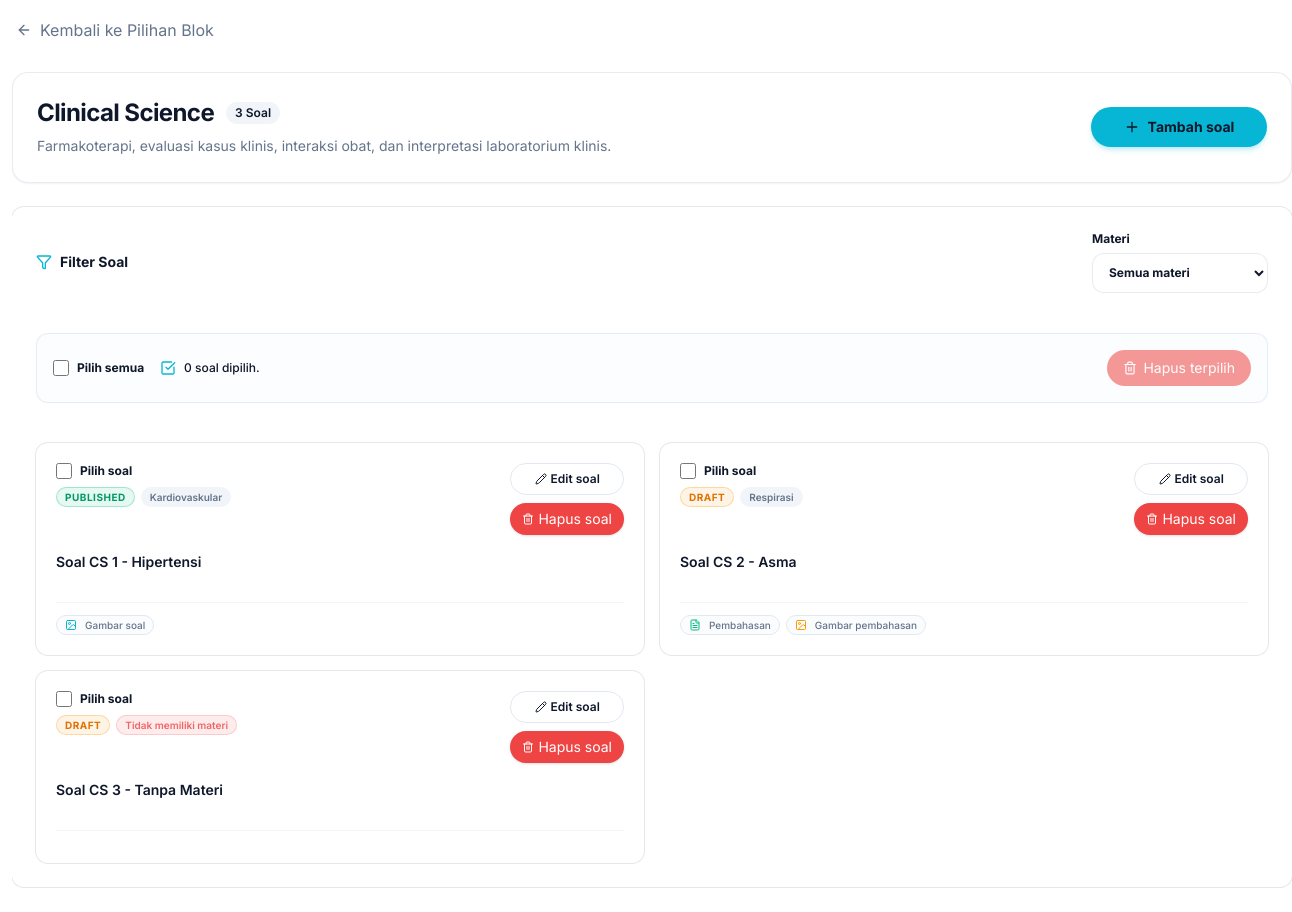
QuestionBlockListView › clears selected questions that are no longer visible when filter changes
Click the checkbox named "Pilih soal Soal CS 1 - Hipertensi": click(64, 471) 56,463 -> 72,479
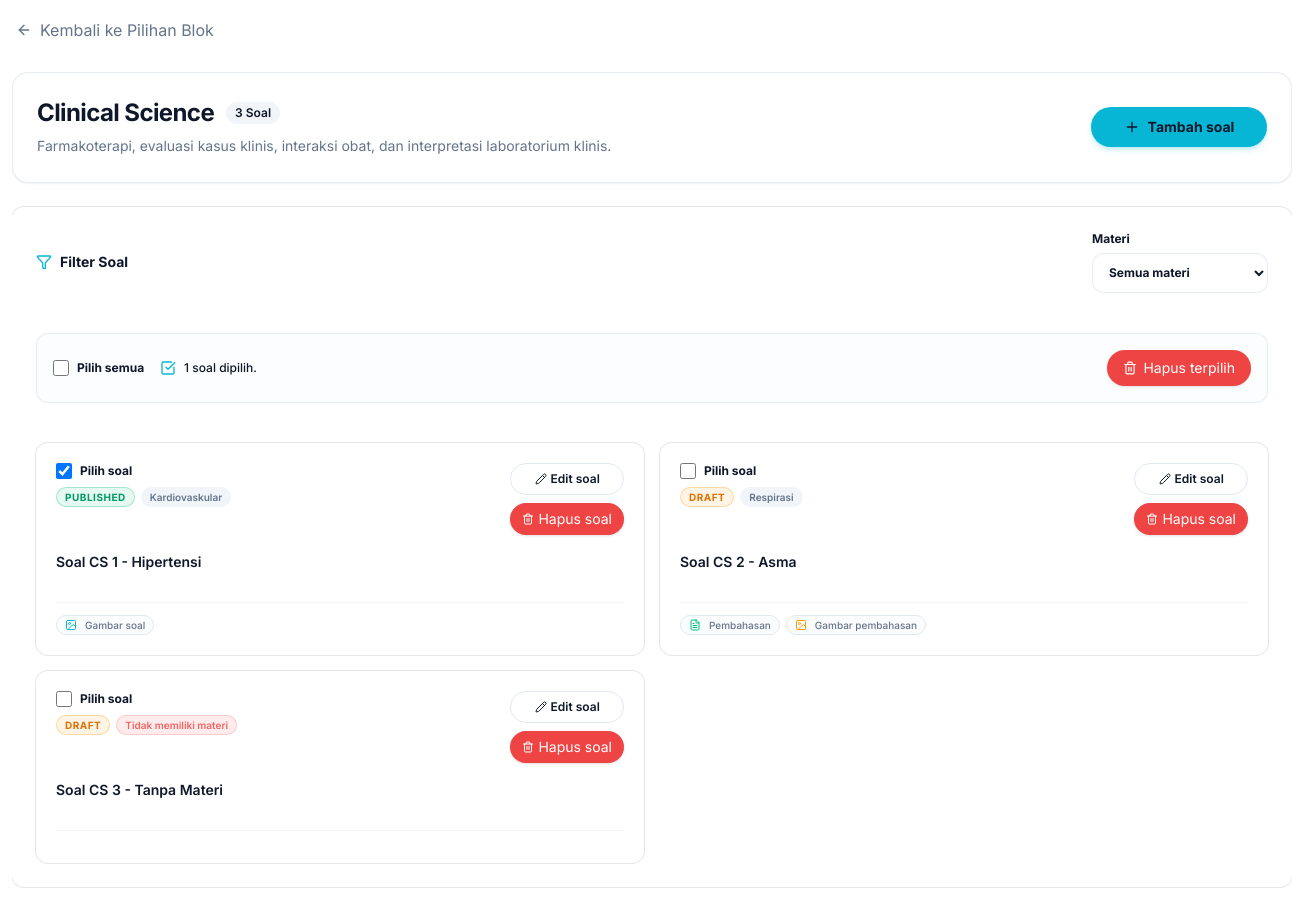
Check: the text "1 soal dipilih." is shown, box 160,360 -> 257,376
Change filter to Respirasi (Soal CS 1 should be hidden and deselected)
Select "Respirasi" in the dropdown labelled "Materi": (1180, 273) 1092,253 -> 1268,293
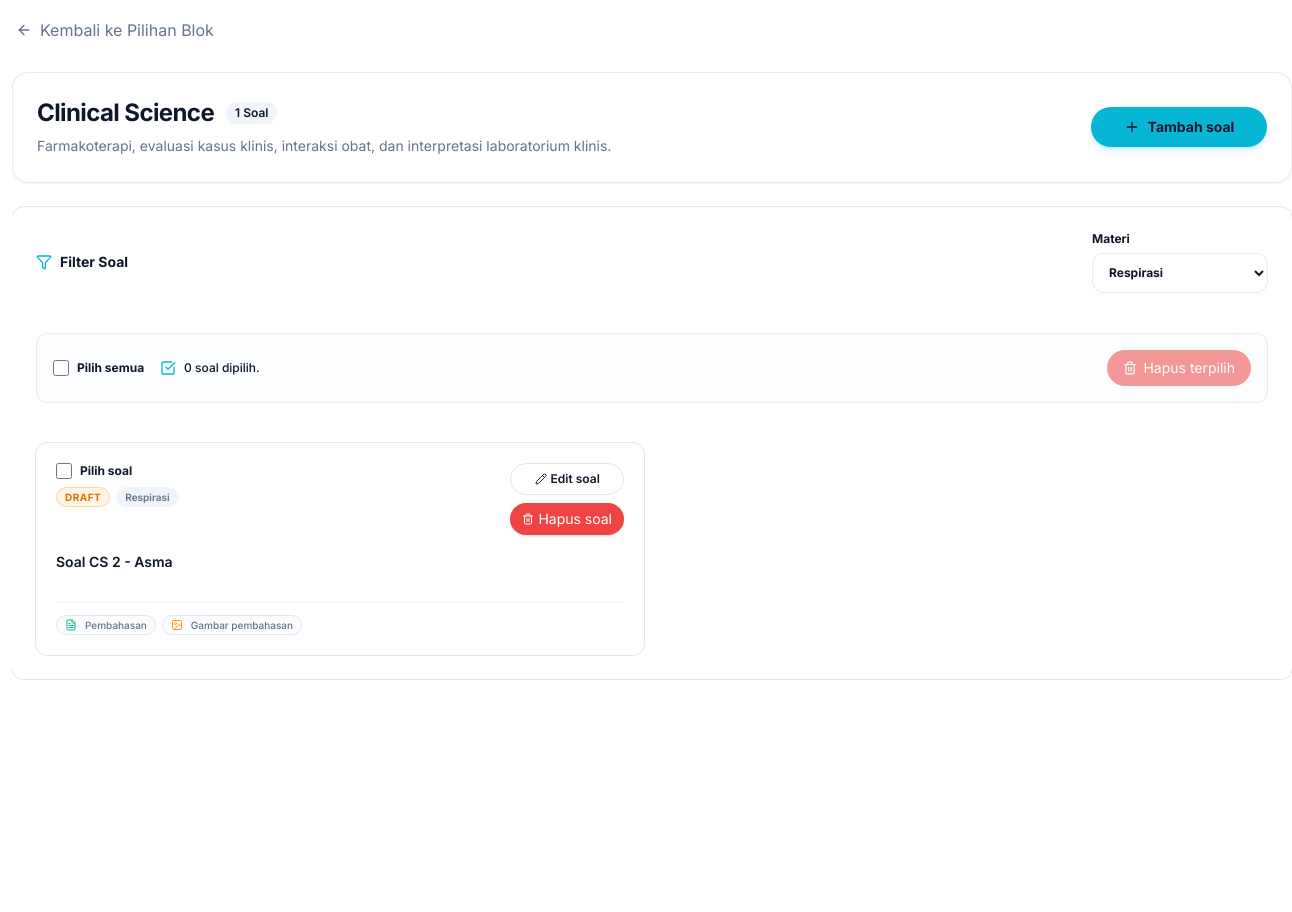
Check: the text "0 soal dipilih." is shown, box 160,360 -> 260,376
Check: the button "Hapus terpilih" is disabled, box 1107,350 -> 1251,386
